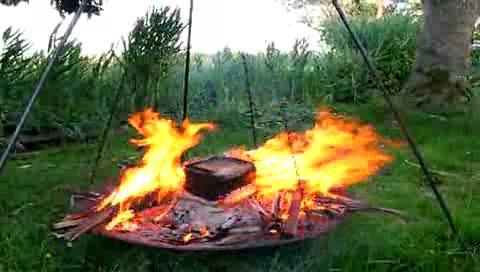fire: (101, 109, 210, 232), (256, 110, 389, 204)
